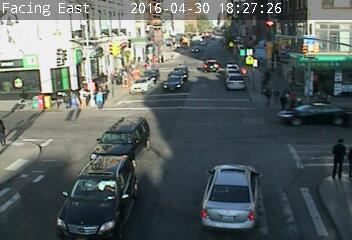neg: (216, 72, 237, 100), (144, 22, 163, 49), (213, 181, 231, 205), (289, 39, 305, 61), (112, 6, 128, 27), (35, 124, 48, 142), (164, 85, 177, 102), (231, 32, 244, 49), (99, 177, 111, 193), (34, 90, 46, 106), (141, 61, 152, 77), (189, 44, 200, 59), (118, 129, 129, 143)
pos: (321, 132, 351, 183), (72, 82, 94, 112), (90, 85, 108, 108), (261, 84, 278, 107), (66, 88, 83, 111), (278, 86, 293, 107), (258, 65, 273, 85), (270, 85, 284, 105), (288, 94, 300, 110)
